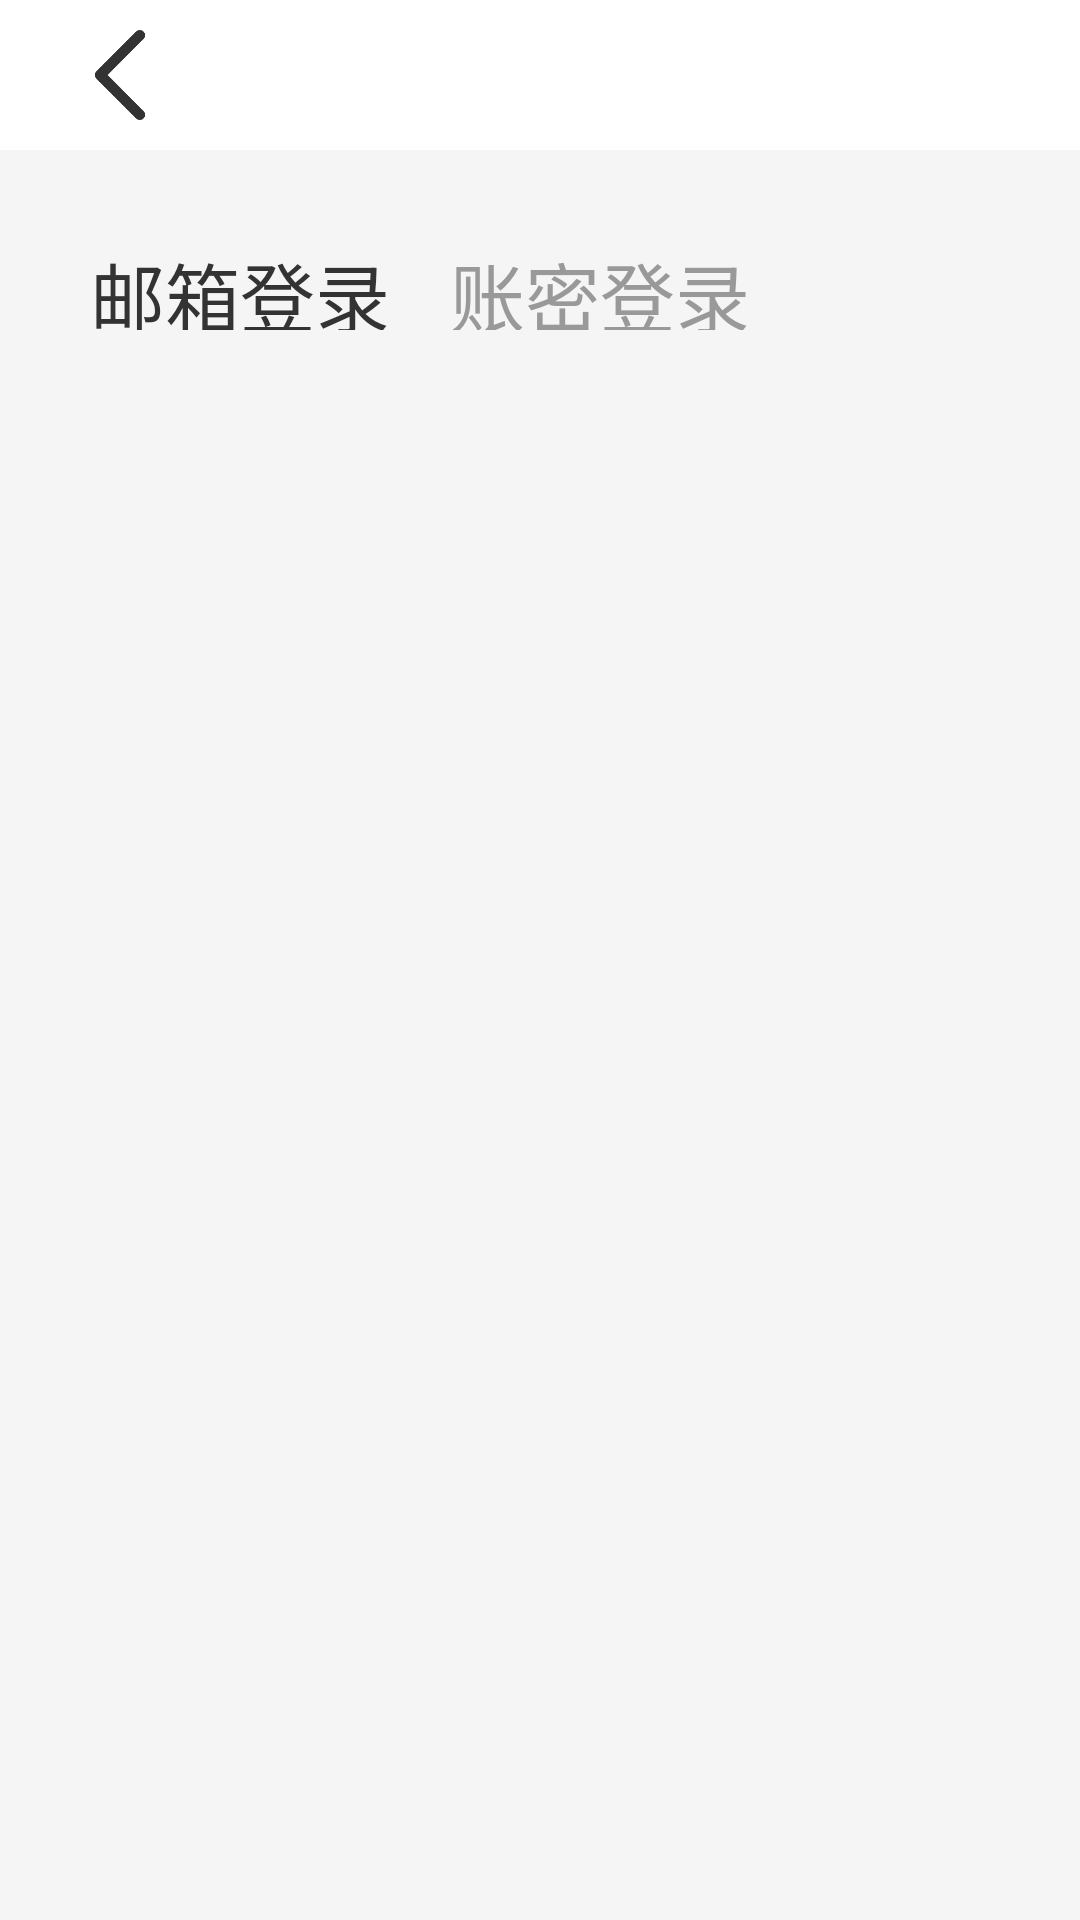

Named icons in this screenshot (1080 x 1920) and their bounding boxes, (x1, y1, x2, y2):
back: (95, 30, 145, 120)
